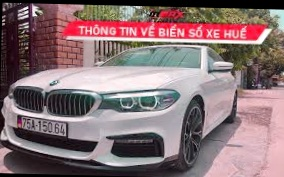Bien-so: (27, 118, 73, 141)
